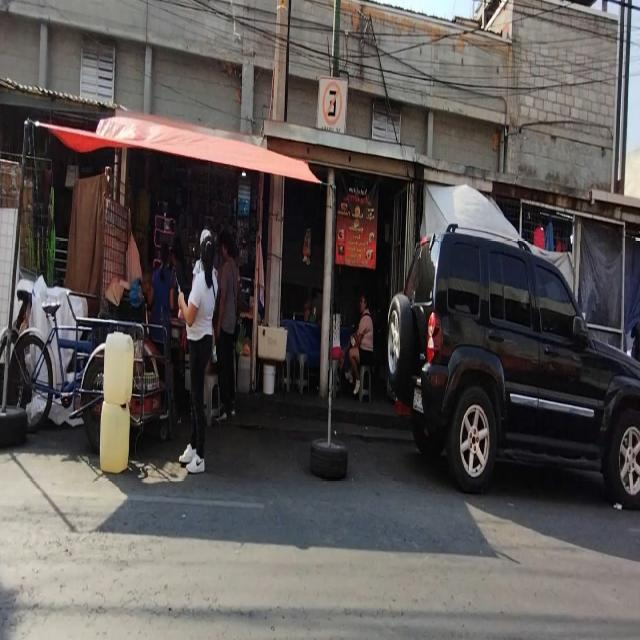adult: (178, 228, 218, 479), (216, 230, 242, 420), (146, 245, 174, 348), (346, 294, 372, 395)
